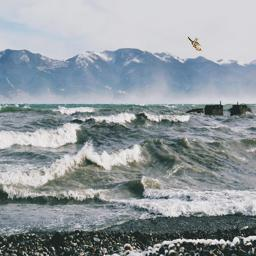Sparrow: (188, 37, 203, 52)
